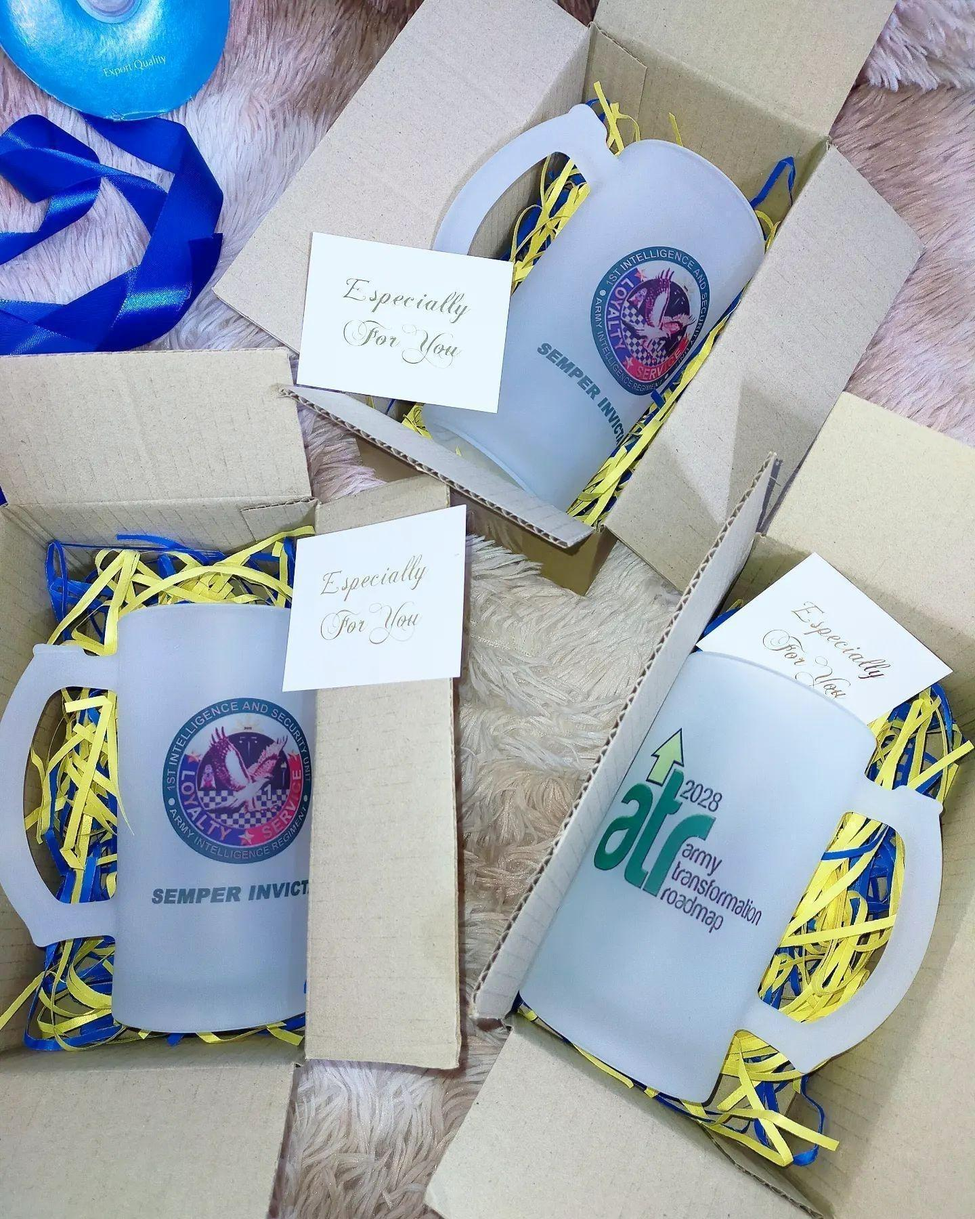glass-mug: (511, 641, 942, 1114), (407, 106, 768, 509), (11, 595, 316, 1040)
